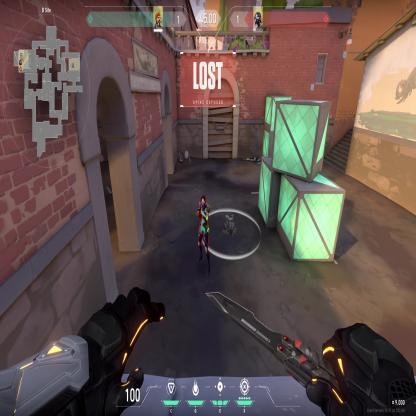enemy: (196, 193, 211, 278)
